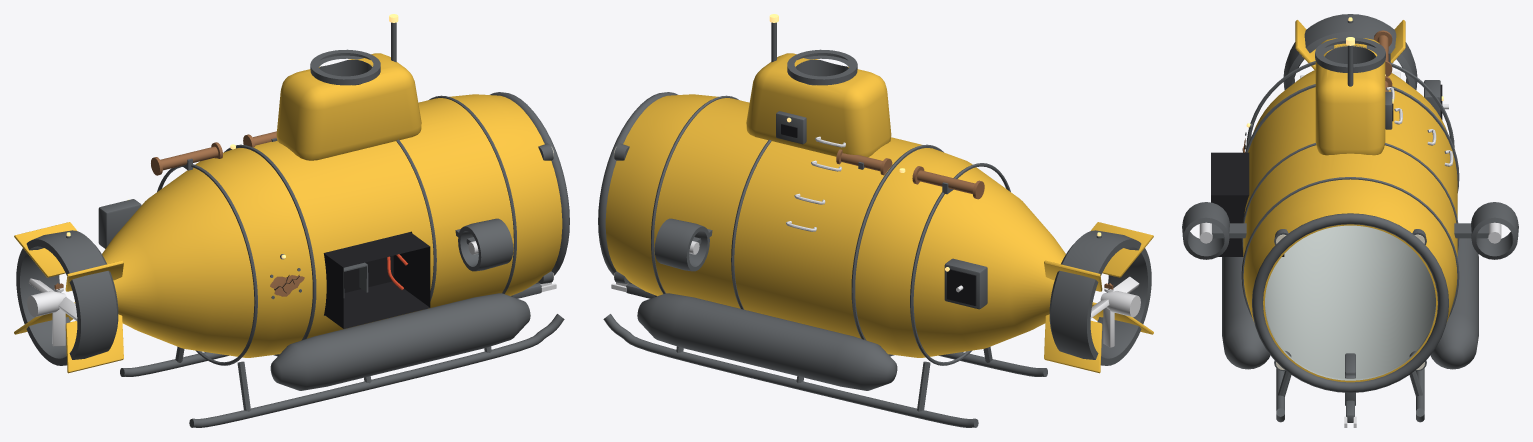
File: SM_Submarine.fbx
The picture shows the model from 3 angles, left to right: view 1: azimuth 30°, elevation 25°; view 2: azimuth 150°, elevation 25°; view 3: azimuth 270°, elevation 25°; orthographic projection.
Visible parts, largest first — view 1: SM_Submarine; view 2: SM_Submarine; view 3: SM_Submarine.
Part boxes in pixels (<box>): SM_Submarine: <box>14,14,569,427</box>; SM_Submarine: <box>598,14,1153,427</box>; SM_Submarine: <box>1182,14,1518,427</box>.
Bounding box in the file's own units: 6.49 × 3.97 × 3.62.
